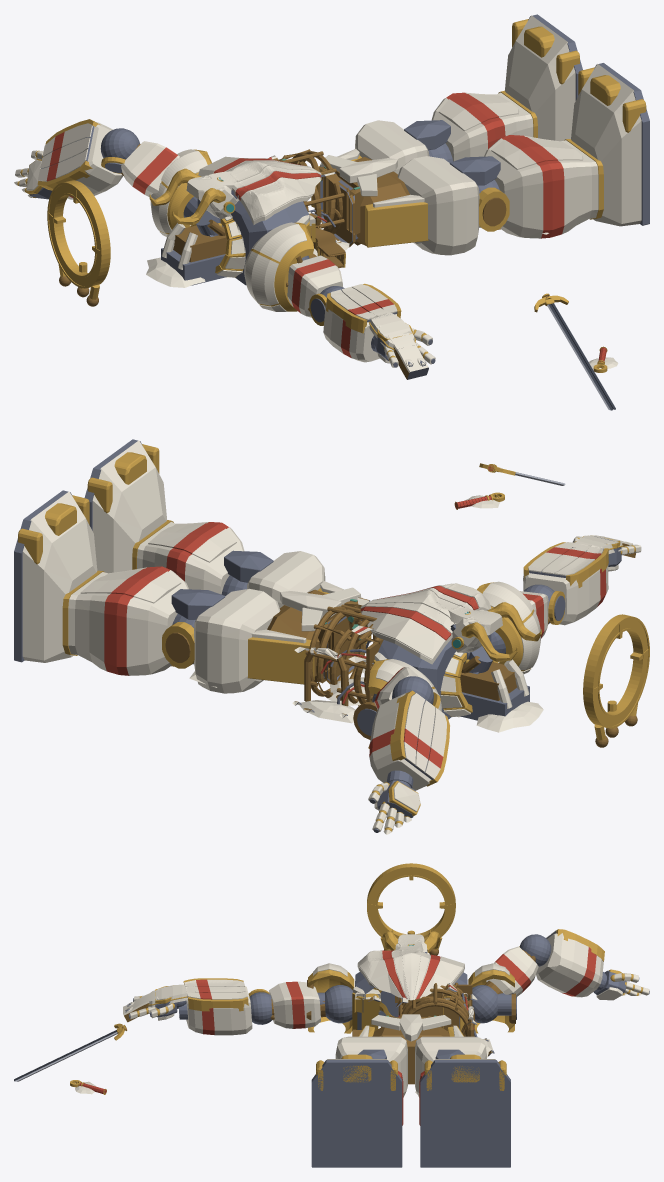
Rendered from titan-lod1.glb.
3 renders of one model, top to bottom at view 1: azimuth 30°, elevation 25°; view 2: azimuth 150°, elevation 25°; view 3: azimuth 270°, elevation 25°, orthographic. The views are drawn at different scales.
Parts seen in each view (by area): view 1: titan/shin.R/greave-side-shell, titan/foot.R/foot-shell, titan/thigh.R/thigh-armour, titan/foot.L/foot-shell, titan/shin.L/greave-side-shell, titan/pelvis/hip-skirt-trim-R, titan/halo/main-ring, titan/thigh.L/thigh-armour, titan/upper_arm.R/upper-arm-armour, titan/upper_arm.L/upper-arm-armour, titan/shin.R/greave-armour, titan/shin.L/greave-armour (+34 smaller); view 2: titan/shin.L/greave-side-shell, titan/foot.L/foot-shell, titan/thigh.L/thigh-armour, titan/foot.R/foot-shell, titan/shin.R/greave-side-shell, titan/thigh.R/thigh-armour, titan/pelvis/hip-skirt-trim-L, titan/halo/main-ring, titan/forearm.L/forearm-armour, titan/forearm.R/forearm-armour, titan/shin.L/greave-armour, titan/shin.R/greave-armour (+38 smaller); view 3: titan/foot.R/sole, titan/foot.L/sole, titan/forearm.L/forearm-armour, titan/upper_arm.R/upper-arm-armour, titan/forearm.R/forearm-armour, titan/halo/main-ring, titan/thigh.L/thigh-armour, titan/thigh.R/thigh-armour, titan/upper_arm.L/upper-arm-armour, titan/upper_arm.R/shoulder-gimbal, titan/chest/breastplate-R-4, titan/shoulder.R/pauldron-shell (+19 smaller).
Boxes of the visible parts, box(x1,y1,x2,y2) form: titan/shin.R/greave-side-shell: box(484, 135, 598, 238); titan/foot.R/foot-shell: box(571, 64, 641, 226); titan/thigh.R/thigh-armour: box(397, 156, 479, 255); titan/foot.L/foot-shell: box(505, 15, 575, 141); titan/shin.L/greave-side-shell: box(431, 92, 533, 161); titan/pelvis/hip-skirt-trim-R: box(365, 202, 428, 247); titan/halo/main-ring: box(49, 180, 109, 287); titan/thigh.L/thigh-armour: box(355, 120, 429, 174); titan/upper_arm.R/upper-arm-armour: box(287, 255, 342, 317); titan/upper_arm.L/upper-arm-armour: box(121, 141, 179, 196); titan/shin.R/greave-armour: box(491, 136, 583, 169); titan/shin.L/greave-armour: box(438, 94, 519, 131); titan/shin.L/greave-side-shell: box(68, 566, 188, 675); titan/foot.L/foot-shell: box(22, 491, 97, 662); titan/thigh.L/thigh-armour: box(194, 588, 280, 693); titan/foot.R/foot-shell: box(92, 440, 166, 573); titan/shin.R/greave-side-shell: box(137, 521, 244, 594); titan/thigh.R/thigh-armour: box(247, 551, 325, 607); titan/pelvis/hip-skirt-trim-L: box(247, 637, 314, 684); titan/halo/main-ring: box(584, 614, 647, 727); titan/forearm.L/forearm-armour: box(369, 693, 431, 790); titan/forearm.R/forearm-armour: box(523, 565, 608, 625); titan/shin.L/greave-armour: box(80, 568, 181, 603); titan/shin.R/greave-armour: box(148, 523, 236, 562); titan/foot.R/sole: box(311, 1060, 402, 1167); titan/foot.L/sole: box(420, 1060, 510, 1167); titan/forearm.L/forearm-armour: box(536, 933, 603, 997); titan/upper_arm.R/upper-arm-armour: box(269, 981, 320, 1028); titan/forearm.R/forearm-armour: box(186, 986, 252, 1035); titan/halo/main-ring: box(367, 863, 455, 938); titan/thigh.L/thigh-armour: box(415, 1036, 486, 1097); titan/thigh.R/thigh-armour: box(335, 1036, 407, 1097); titan/upper_arm.L/upper-arm-armour: box(486, 946, 538, 996); titan/upper_arm.R/shoulder-gimbal: box(325, 985, 352, 1023); titan/chest/breastplate-R-4: box(358, 950, 402, 997); titan/shoulder.R/pauldron-shell: box(308, 969, 354, 1033).
Size of the model in its own units: 1621 by 387 by 2108.
